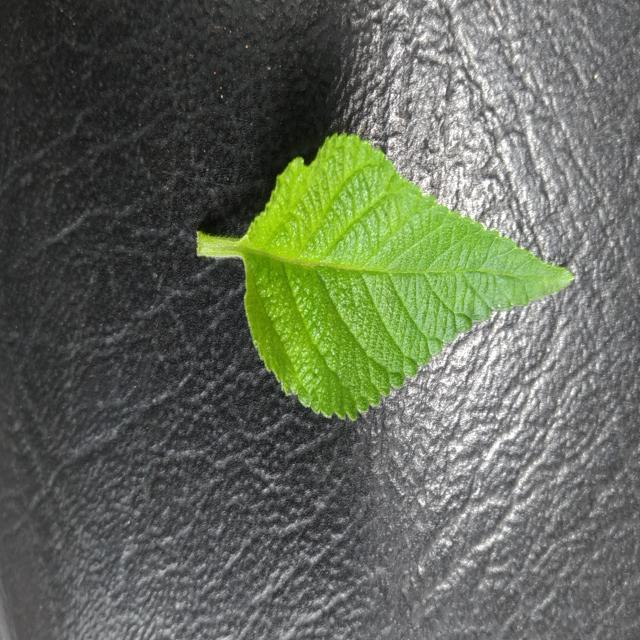Lantana: (198, 136, 574, 418)
